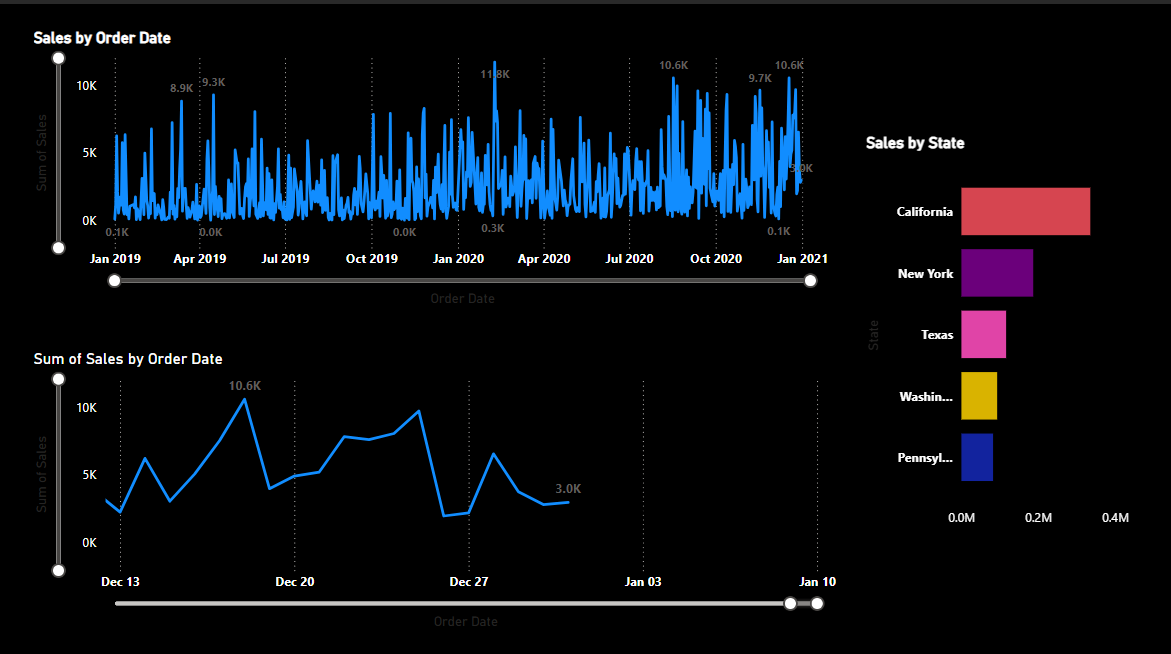

The page's visual inventory and layout, read from the dashboard file:
{"tool":"powerbi","page":{"name":"Forecasting","canvas":[1280,720],"ordinal":1},"visuals":[{"type":"lineChart","title":"Sales by Order Date","fields":{"Y":["Sum(SuperStore_Sales_Dataset.Sales)"],"Category":["SuperStore_Sales_Dataset.Order Date"]},"box":[35.9,26.5,880.6,306.1],"z":0},{"type":"lineChart","fields":{"Y":["Sum(SuperStore_Sales_Dataset.Sales)"],"Category":["SuperStore_Sales_Dataset.Order Date"]},"box":[35.9,374.2,880.6,308],"z":1000},{"type":"clusteredBarChart","title":" Sales by State","fields":{"Category":["SuperStore_Sales_Dataset.State"],"Y":["Sum(SuperStore_Sales_Dataset.Sales)"]},"box":[939.2,139.8,294.8,436.5],"z":2000}]}

Visuals, with their boxes in screenshot pixels (x1, y1, x2, y2), scaled from the page's 1280x720 canvas onto the 1171x654 screenshot:
"Sales by Order Date" lineChart: region(33, 24, 838, 302)
lineChart - Sum(SuperStore_Sales_Dataset.Sales) x SuperStore_Sales_Dataset.Order Date: region(33, 340, 838, 620)
" Sales by State" clusteredBarChart: region(859, 127, 1129, 523)
